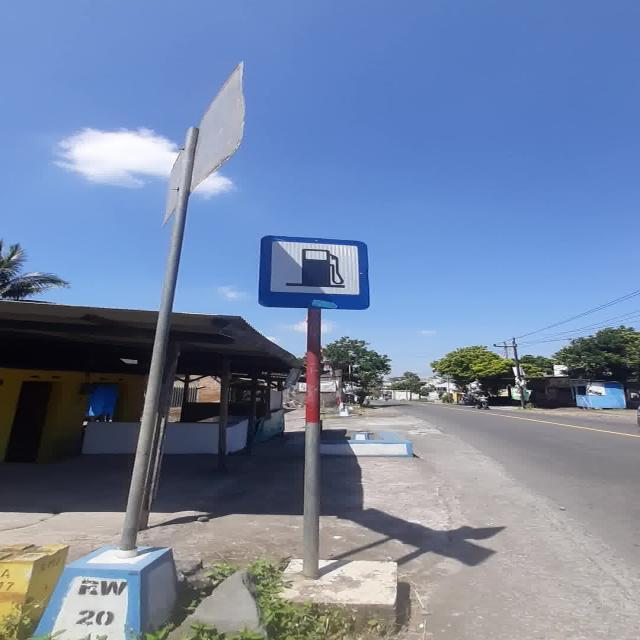Pom Bensin: (258, 234, 370, 310)
